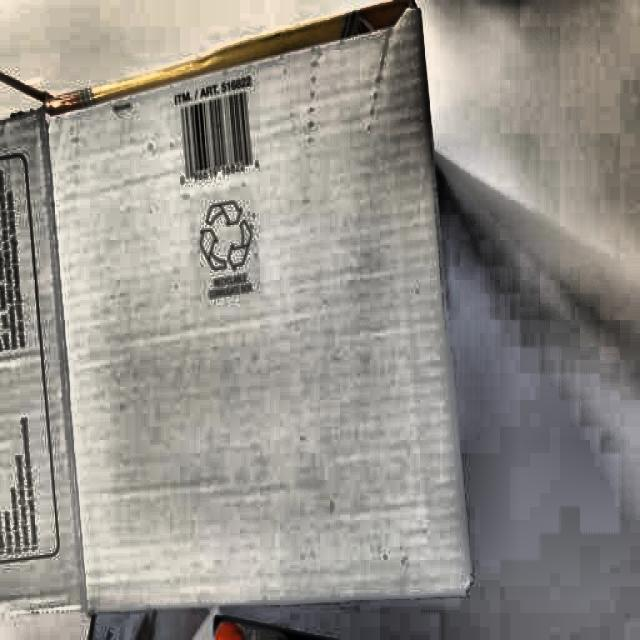cardboard: (3, 3, 478, 635)
